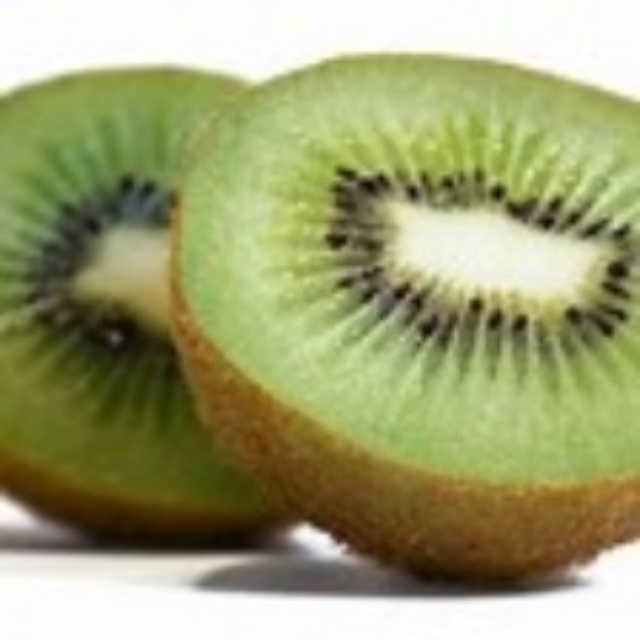kiwi: (171, 57, 639, 565), (4, 67, 302, 548)
